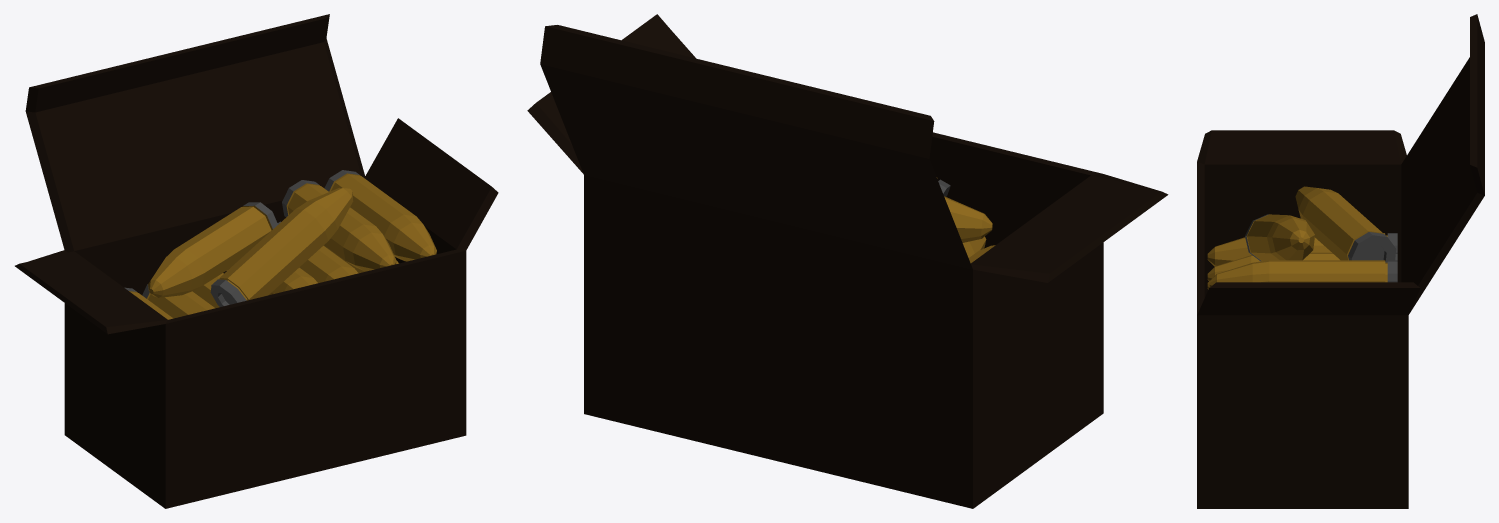
Rendered from ammo_pack.fbx.
3 renders of one model, left to right at view 1: azimuth 30°, elevation 25°; view 2: azimuth 150°, elevation 25°; view 3: azimuth 270°, elevation 25°, orthographic. The views are drawn at different scales.
Visible parts, largest first — view 1: Cylinder.002; view 2: Cylinder.002; view 3: Cylinder.002.
Part boxes in pixels (x1,y1,x2,y2): Cylinder.002: (15, 14, 498, 508); Cylinder.002: (527, 14, 1168, 508); Cylinder.002: (1197, 14, 1484, 508).
Size of the model in its own units: 261 by 206 by 158.
